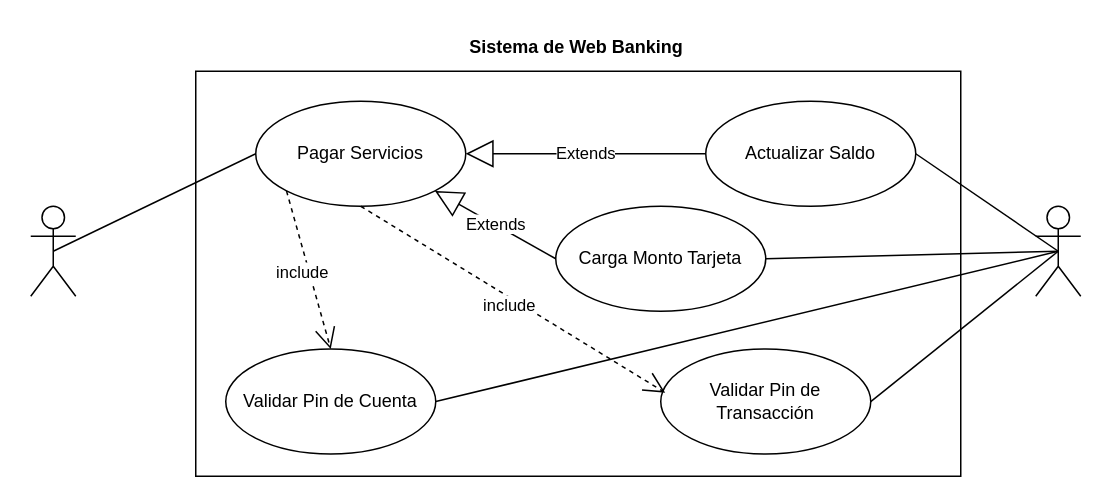
Some shapes in this 1110 by 503 pixel diagram are drawn without their labels. The box of each missing label's shape, as (x1, y1, x2, y2) in pixels:
Banco: (1034, 205, 1081, 296)
Cliente: (29, 205, 76, 296)
